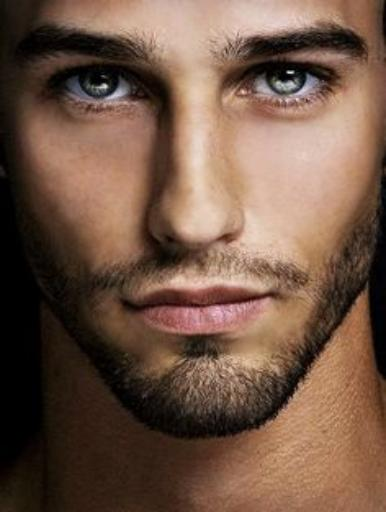left_eye: (233, 56, 339, 107)
left_lip_corner: (253, 280, 286, 314)
right_eye: (45, 62, 154, 108)
right_lip_corner: (116, 290, 144, 321)
